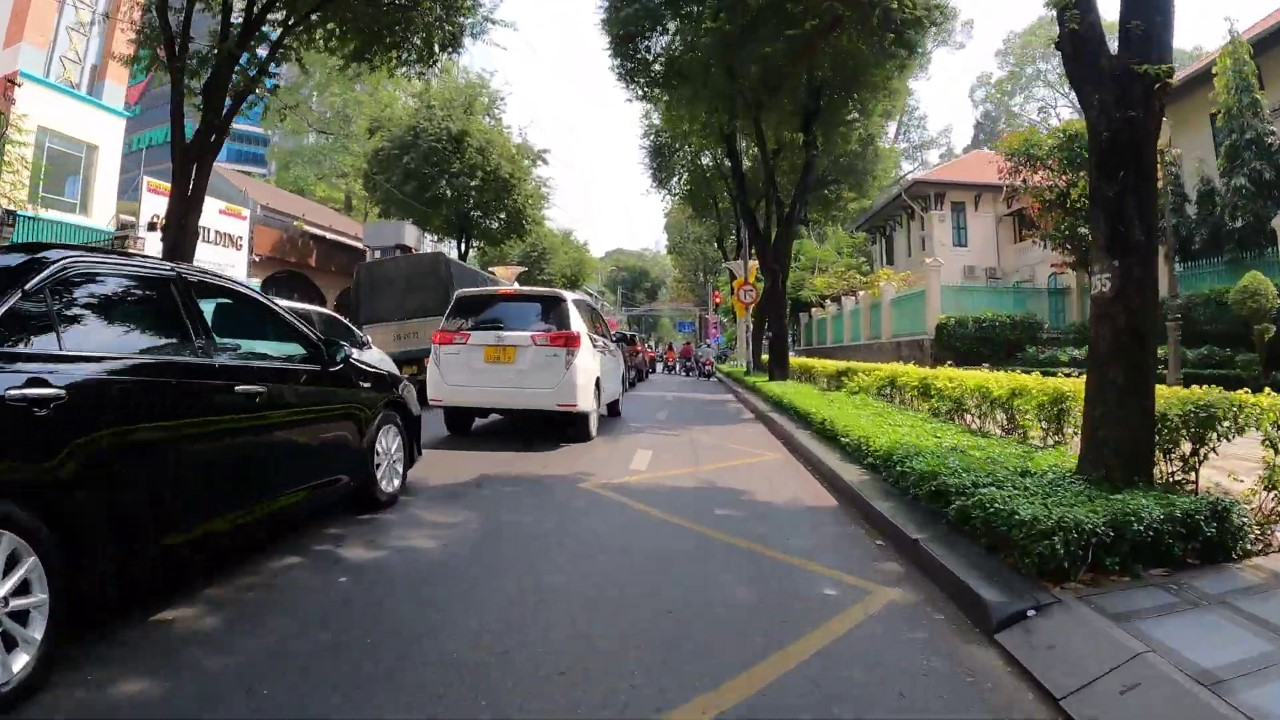cam_re_phai: (736, 282, 759, 307)
